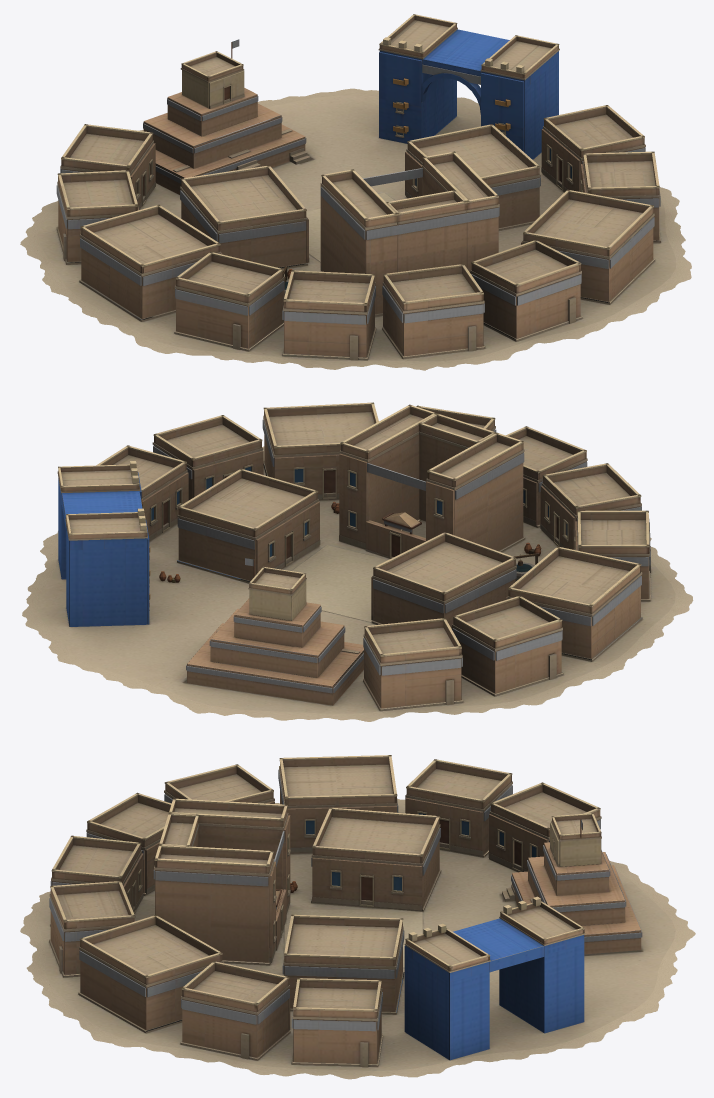
The model's file is bronze-town-medium-a-levant-8db031a2.glb.
The picture shows the model from 3 angles, top to bottom: view 1: azimuth 30°, elevation 25°; view 2: azimuth 150°, elevation 25°; view 3: azimuth 270°, elevation 25°; orthographic projection.
Visible parts, largest first — view 1: LOD0; view 2: LOD0; view 3: LOD0.
Part boxes in pixels (x1,y1,x2,y2): LOD0: [20, 14, 691, 370]; LOD0: [22, 402, 693, 721]; LOD0: [20, 755, 695, 1079].
Size of what is drawn, in the model's own units: 5.93 by 1.11 by 5.97.
Materials: 3 (3 with a texture image).
